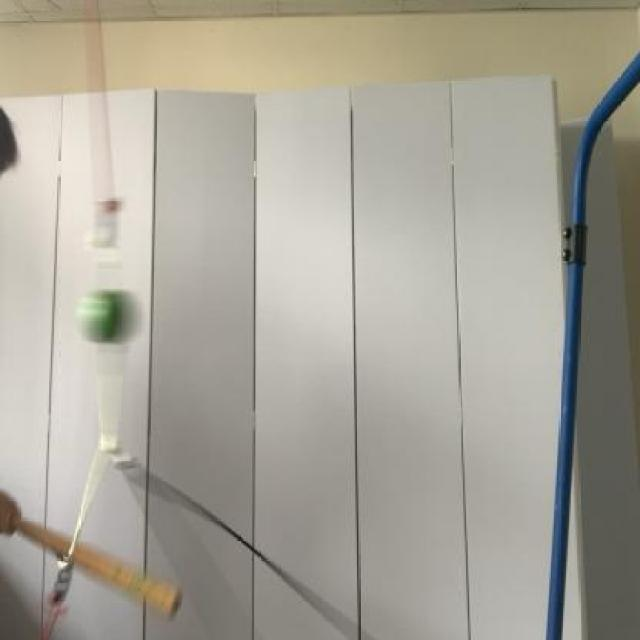baseball: (68, 273, 140, 359)
